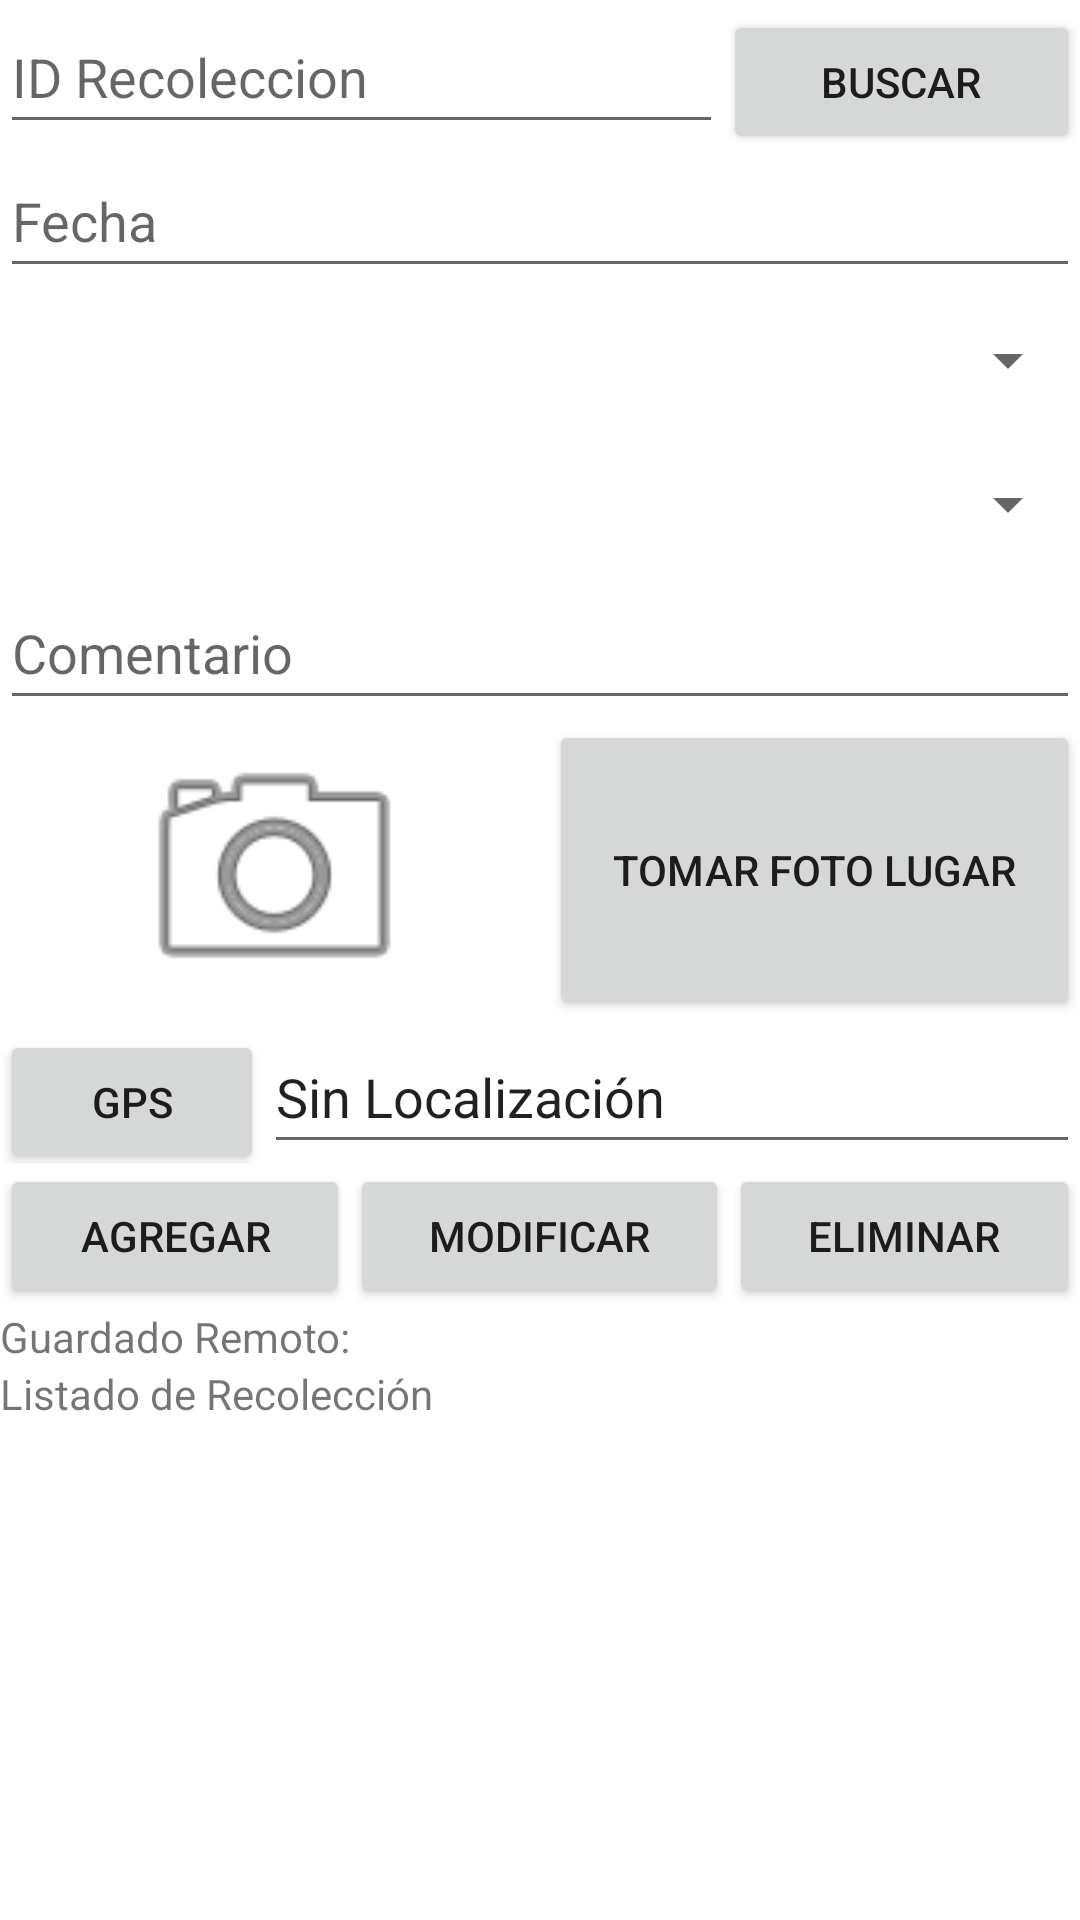

Icon bounding boxes for this 1080px x 1920px phone screenshot, format {"left": x1, "top": y1, "right": x2, "bottom": y2}:
camera: {"left": 158, "top": 773, "right": 391, "bottom": 958}
